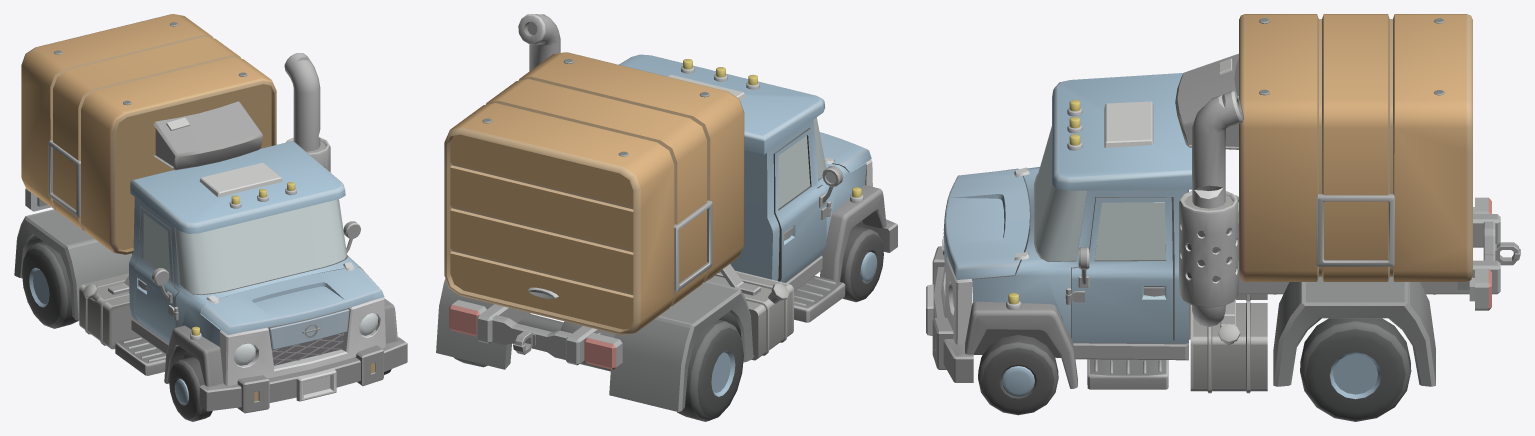
Rendered from garbage_track.glb.
3 views of the same model, side by side, from view 1: azimuth 30°, elevation 25°; view 2: azimuth 150°, elevation 25°; view 3: azimuth 270°, elevation 25° (orthographic). The views are drawn at different scales.
Parts seen in each view (by area): view 1: body_down; view 2: body_down; view 3: body_down.
Boxes of the visible parts, <box> form: body_down: <box>14,14,407,421</box>; body_down: <box>436,14,897,421</box>; body_down: <box>926,14,1520,421</box>.
Size of the model in its own units: 2.41 by 2.54 by 4.17.
